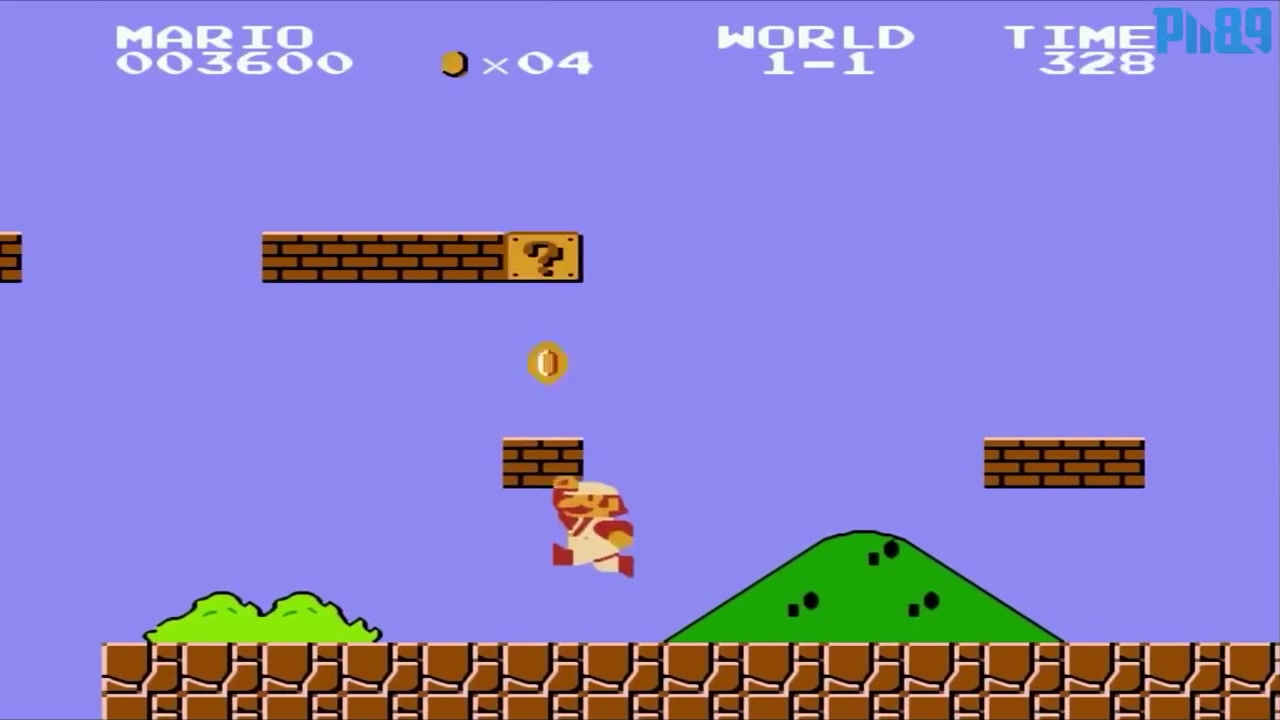mario: (540, 467, 638, 588)
